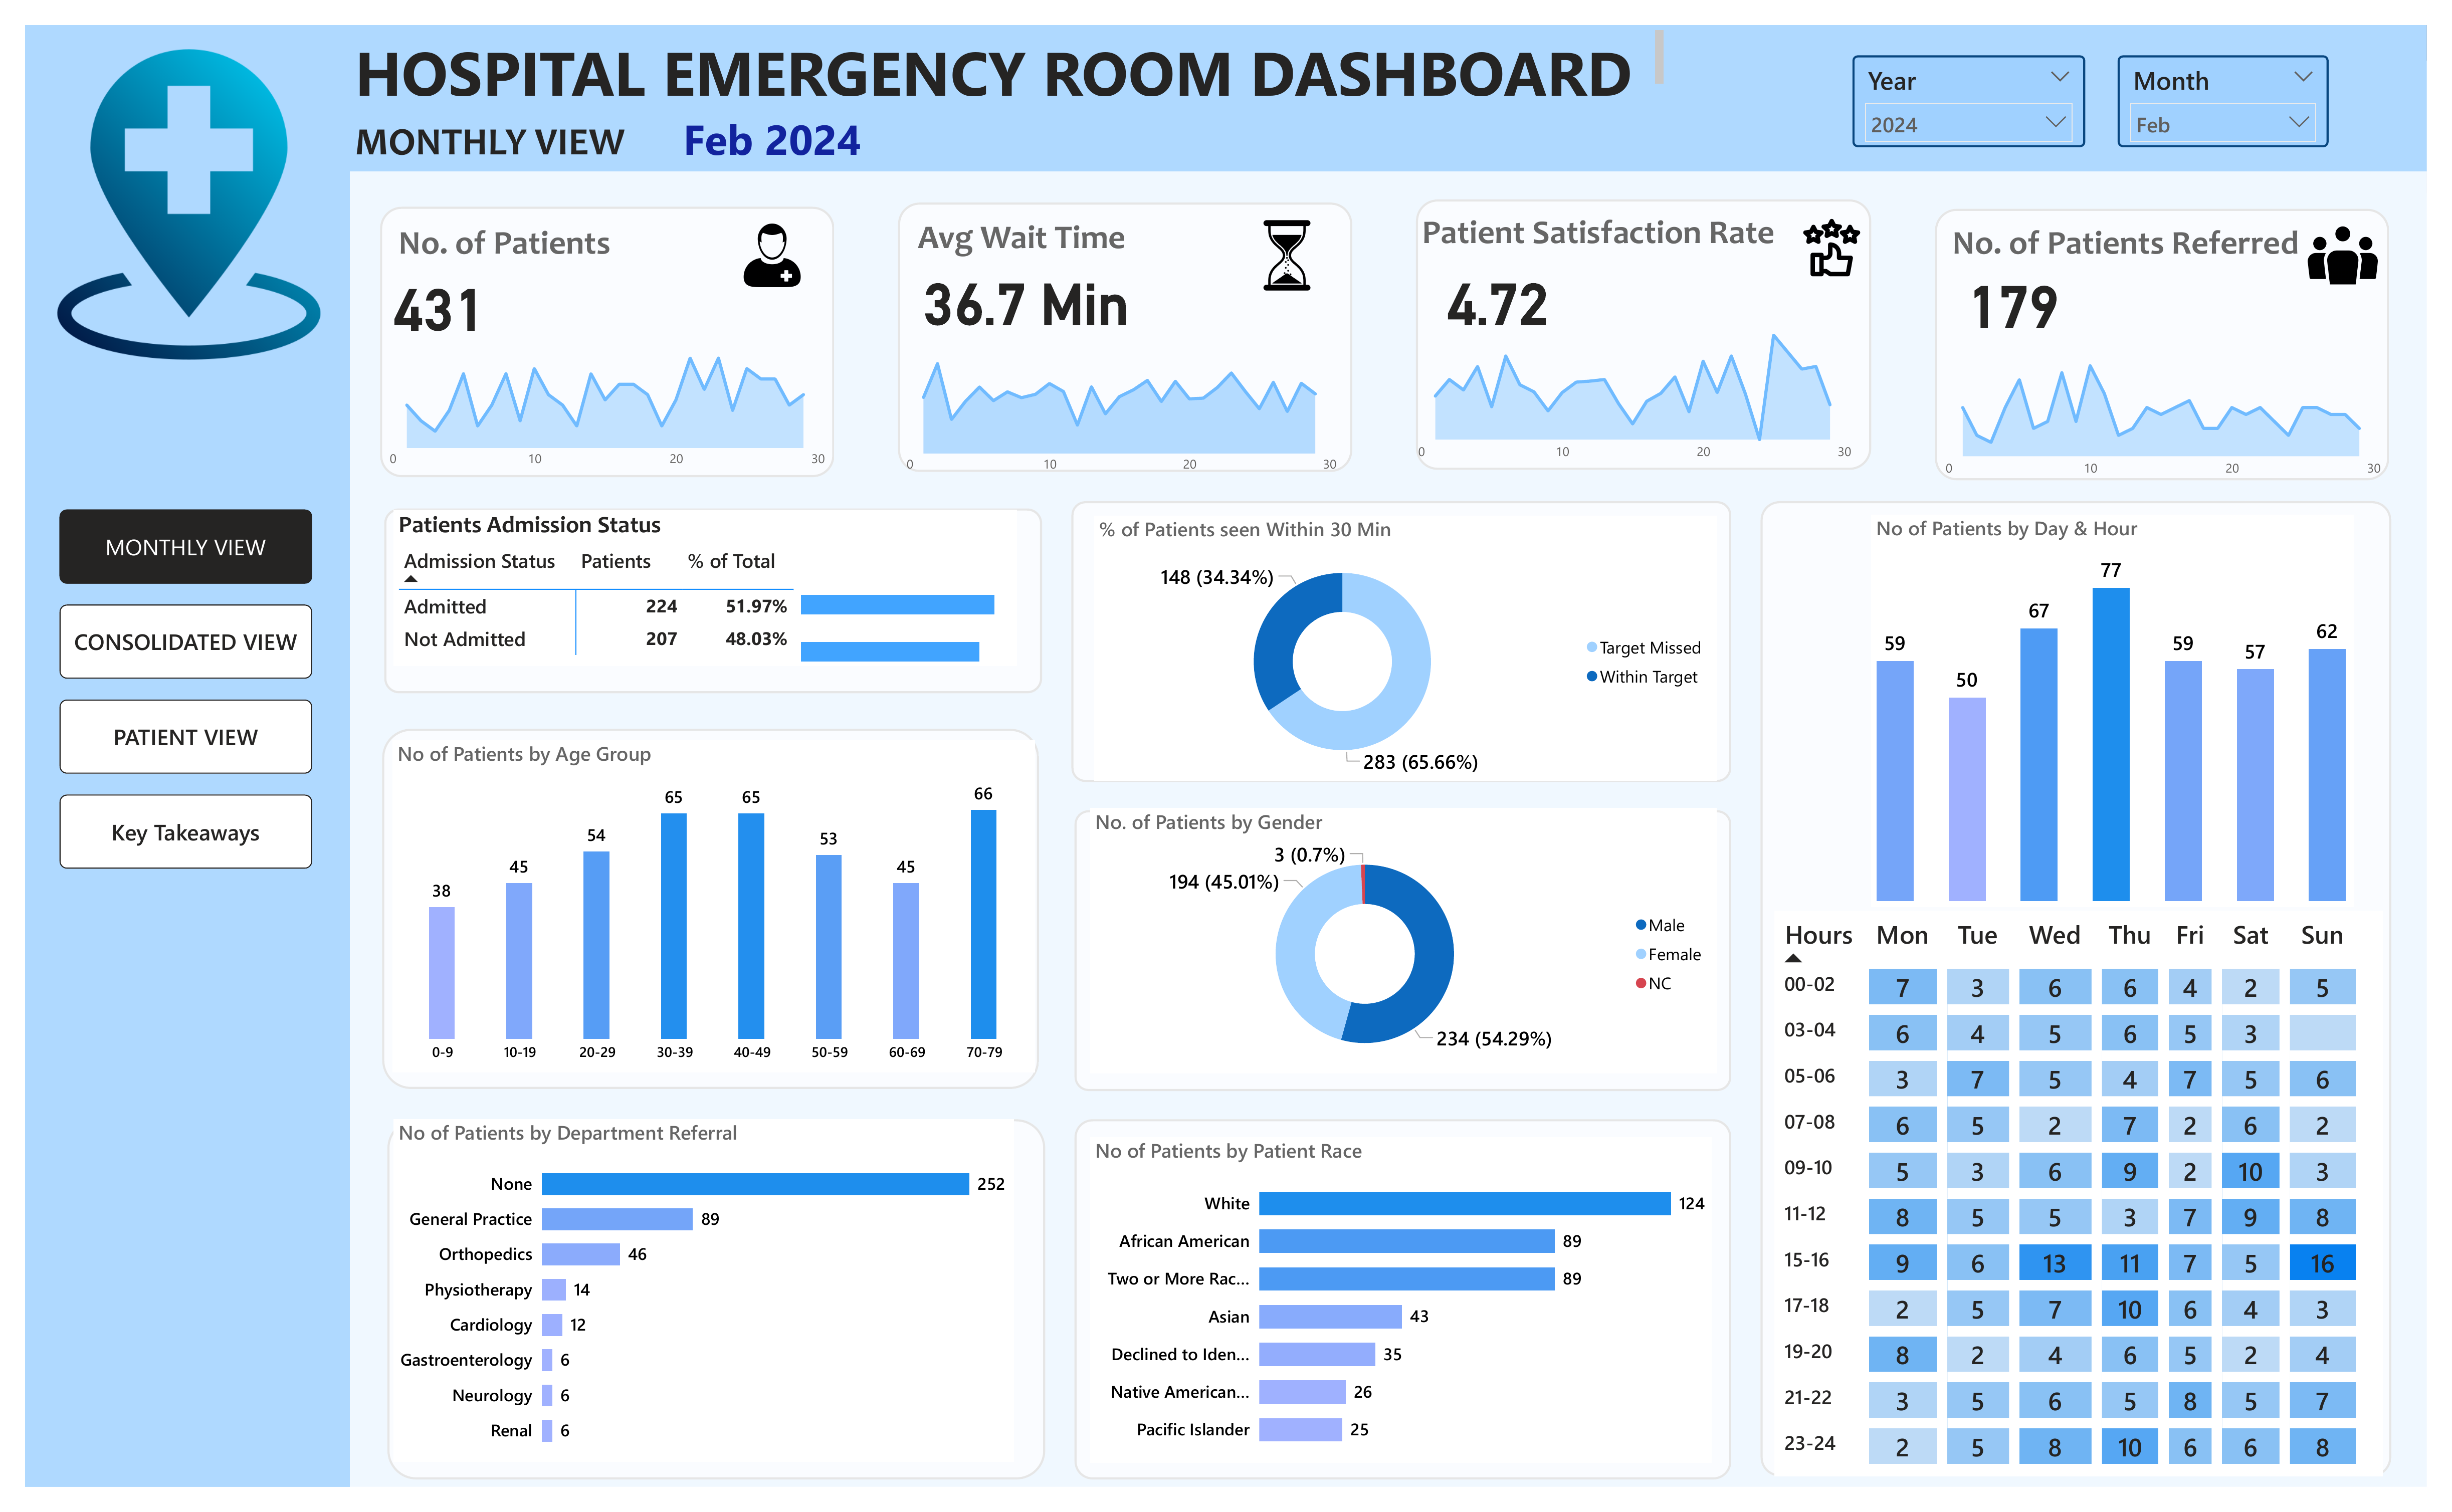

This screenshot's page, from the dashboard's own definition file:
{"tool":"powerbi","page":{"name":"MONTHLY VIEW","canvas":[2300,1400],"ordinal":0},"visuals":[{"type":"shape","box":[339.6,173.7,435.5,259.2],"z":0},{"type":"shape","box":[311.1,0,1988.4,140],"z":1000},{"type":"textbox","box":[311.1,0,1262.5,72.6],"z":2000},{"type":"shape","box":[0,0,311.1,1399.9],"z":3000},{"type":"textbox","box":[352.6,184.1,290.4,67.4],"z":4000},{"type":"card","fields":{"Values":["Hospital ER_Data.No of Patients"]},"box":[337,230.7,119.3,70],"z":5000},{"type":"slicer","fields":{"Values":["Date.Year"]},"box":[1749.9,28.5,223,88.1],"z":6000},{"type":"slicer","fields":{"Values":["Date.Month"]},"box":[2004,28.5,202.2,88.1],"z":7000},{"type":"textbox","box":[311.1,83,290.4,67.4],"z":8000},{"type":"areaChart","fields":{"Category":["Date.Date.Variation.Date Hierarchy.Day"],"Y":["All Measures.No of Patients"]},"box":[336.6,290.5,437.1,143.9],"z":9000},{"type":"card","fields":{"Values":["Min(Date.Month_Year)"]},"box":[601.5,67.4,228.1,83],"z":10000},{"type":"shape","box":[836.4,170,434.4,257.9],"z":11000},{"type":"textbox","box":[850.3,178.9,290.4,67.4],"z":12000},{"type":"card","fields":{"Values":["All Measures.Avg_Wait_time"]},"box":[850.3,225.5,217.8,70],"z":13000},{"type":"areaChart","fields":{"Category":["Date.Date.Variation.Date Hierarchy.Day"],"Y":["Avg(Hospital ER_Data.Patient Waittime)"]},"box":[832.4,294.8,431.7,143.9],"z":14000},{"type":"shape","box":[1332,166.8,435.5,259.2],"z":15000},{"type":"textbox","box":[1332.5,173.7,360.4,51.8],"z":16000},{"type":"card","fields":{"Values":["All Measures.Satisfaction rate"]},"box":[1350.7,225.5,119.3,70],"z":17000},{"type":"areaChart","fields":{"Category":["Date.Date.Variation.Date Hierarchy.Day"],"Y":["All Measures.Satisfaction rate"]},"box":[1322.1,283.4,434.4,143.9],"z":18000},{"type":"shape","box":[1828.7,176.3,435.5,259.2],"z":19000},{"type":"textbox","box":[1840.6,184.1,347.4,67.4],"z":20000},{"type":"card","fields":{"Values":["All Measures.No. of Patients Referred"]},"box":[1843.2,228.1,121.8,70],"z":21000},{"type":"areaChart","fields":{"Category":["Date.Date.Variation.Date Hierarchy.Day"],"Y":["All Measures.No. of Patients Referred"]},"box":[1827.1,298.6,437.1,143.9],"z":22000},{"type":"shape","box":[343.7,463.2,630,177],"z":23000},{"type":"pivotTable","title":"Patients Admission Status","fields":{"Rows":["Hospital ER_Data.Admission Status"],"Values":["All Measures.No of Patients","Divide(All Measures.No of Patients, ScopedEval(All Measures.No of Patients, []))"]},"box":[352.9,464.2,597.3,149.3],"z":24000},{"type":"barChart","fields":{"Y":["All Measures.No of Patients"],"Category":["Hospital ER_Data.Admission Status"]},"box":[738.4,510.4,257.9,130.3],"z":25000},{"type":"shape","box":[341.5,674.4,629.8,344.8],"z":26000},{"type":"clusteredColumnChart","fields":{"Y":["All Measures.No of Patients"],"Category":["Hospital ER_Data.Age Group"]},"box":[352.4,685.2,615,317.6],"z":27000},{"type":"shape","box":[347.2,1047.8,629.8,344.8],"z":28000},{"type":"clusteredBarChart","fields":{"Category":["Hospital ER_Data.Department Referral"],"Y":["All Measures.No of Patients"]},"box":[352.9,1047.9,594.6,328.5],"z":29000},{"type":"shape","box":[1001.8,456.1,632.6,268.8],"z":30000},{"type":"shape","box":[1661.8,456.3,604,933.3],"z":31000},{"type":"donutChart","title":"% of Patients seen Within 30 Min","fields":{"Y":["All Measures.No of Patients"],"Category":["Hospital ER_Data.Waiting Status"]},"box":[1024,470,596,254],"z":32000},{"type":"shape","box":[1004.5,752,629.8,268.8],"z":33000},{"type":"donutChart","title":"No. of Patients by Gender","fields":{"Category":["Hospital ER_Data.Patient Gender"],"Y":["All Measures.No of Patients"]},"box":[1020,750,600,254],"z":34000},{"type":"shape","box":[1004.5,1047.9,629.8,344.8],"z":35000},{"type":"clusteredBarChart","fields":{"Y":["All Measures.No of Patients"],"Category":["Hospital ER_Data.Patient Race"]},"box":[1020,1065,595,311.7],"z":36000},{"type":"pivotTable","fields":{"Rows":["Hospital ER_Data.Waittime Interval"],"Columns":["Hospital ER_Data.Day"],"Values":["All Measures.No of Patients"]},"box":[1674.7,847.7,583.3,541.8],"z":37000},{"type":"columnChart","title":"No of Patients by Day & Hour","fields":{"Category":["Hospital ER_Data.Day"],"Y":["All Measures.No of Patients"]},"box":[1768.1,469.2,461.5,375.9],"z":38000},{"type":"image","box":[676.6,186.7,77.8,67.4],"z":39000},{"type":"image","box":[1169.2,186.7,77.8,67.4],"z":40000},{"type":"image","box":[1690.3,178.9,77.8,67.4],"z":41000},{"type":"image","box":[2180.3,186.7,77.8,67.4],"z":42000},{"type":"image","box":[7.8,23.3,298.1,298.1],"z":43000},{"type":"pageNavigator","box":[33.3,463.7,242.5,344.8],"z":44000}]}

Visuals, with their boxes on the page's 2300x1400 design canvas (x1, y1, x2, y2). These are canvas units, not pixel positions in the 2452x1512 screenshot, which may show the page scaled, cropped or inside an application window:
shape: [340, 174, 775, 433]
shape: [311, 0, 2300, 140]
textbox: [311, 0, 1574, 73]
shape: [0, 0, 311, 1400]
textbox: [353, 184, 643, 252]
card - Hospital ER_Data.No of Patients: [337, 231, 456, 301]
slicer - Date.Year: [1750, 28, 1973, 117]
slicer - Date.Month: [2004, 28, 2206, 117]
textbox: [311, 83, 602, 150]
areaChart - Date.Date.Variation.Date Hierarchy.Day x All Measures.No of Patients: [337, 290, 774, 434]
card - Min(Date.Month_Year): [602, 67, 830, 150]
shape: [836, 170, 1271, 428]
textbox: [850, 179, 1141, 246]
card - All Measures.Avg_Wait_time: [850, 226, 1068, 296]
areaChart - Date.Date.Variation.Date Hierarchy.Day x Avg(Hospital ER_Data.Patient Waittime): [832, 295, 1264, 439]
shape: [1332, 167, 1768, 426]
textbox: [1332, 174, 1693, 226]
card - All Measures.Satisfaction rate: [1351, 226, 1470, 296]
areaChart - Date.Date.Variation.Date Hierarchy.Day x All Measures.Satisfaction rate: [1322, 283, 1756, 427]
shape: [1829, 176, 2264, 436]
textbox: [1841, 184, 2188, 252]
card - All Measures.No. of Patients Referred: [1843, 228, 1965, 298]
areaChart - Date.Date.Variation.Date Hierarchy.Day x All Measures.No. of Patients Referred: [1827, 299, 2264, 442]
shape: [344, 463, 974, 640]
"Patients Admission Status" pivotTable: [353, 464, 950, 614]
barChart - All Measures.No of Patients x Hospital ER_Data.Admission Status: [738, 510, 996, 641]
shape: [342, 674, 971, 1019]
clusteredColumnChart - All Measures.No of Patients x Hospital ER_Data.Age Group: [352, 685, 967, 1003]
shape: [347, 1048, 977, 1393]
clusteredBarChart - Hospital ER_Data.Department Referral x All Measures.No of Patients: [353, 1048, 948, 1376]
shape: [1002, 456, 1634, 725]
shape: [1662, 456, 2266, 1390]
"% of Patients seen Within 30 Min" donutChart: [1024, 470, 1620, 724]
shape: [1004, 752, 1634, 1021]
"No. of Patients by Gender" donutChart: [1020, 750, 1620, 1004]
shape: [1004, 1048, 1634, 1393]
clusteredBarChart - All Measures.No of Patients x Hospital ER_Data.Patient Race: [1020, 1065, 1615, 1377]
pivotTable - Hospital ER_Data.Waittime Interval x Hospital ER_Data.Day: [1675, 848, 2258, 1390]
"No of Patients by Day & Hour" columnChart: [1768, 469, 2230, 845]
image: [677, 187, 754, 254]
image: [1169, 187, 1247, 254]
image: [1690, 179, 1768, 246]
image: [2180, 187, 2258, 254]
image: [8, 23, 306, 321]
pageNavigator: [33, 464, 276, 808]
